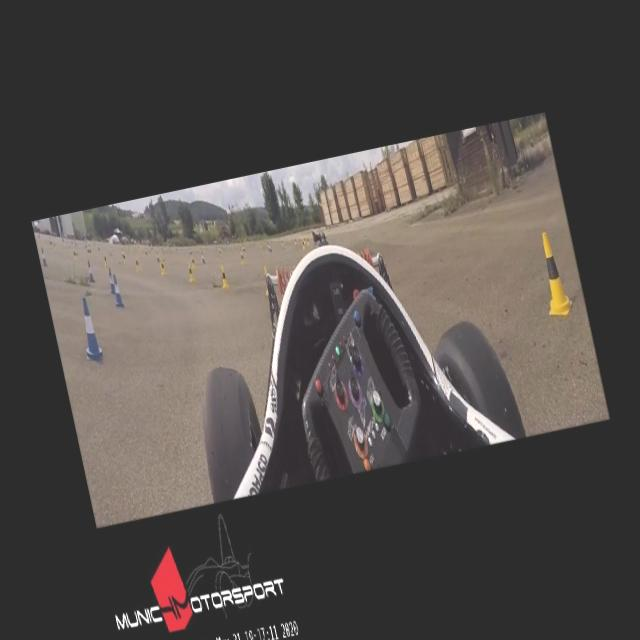blue_cone: (74, 296, 103, 362), (109, 273, 124, 307), (104, 268, 116, 294)
yellow_cone: (532, 230, 574, 318), (218, 264, 229, 288), (186, 263, 195, 282)
